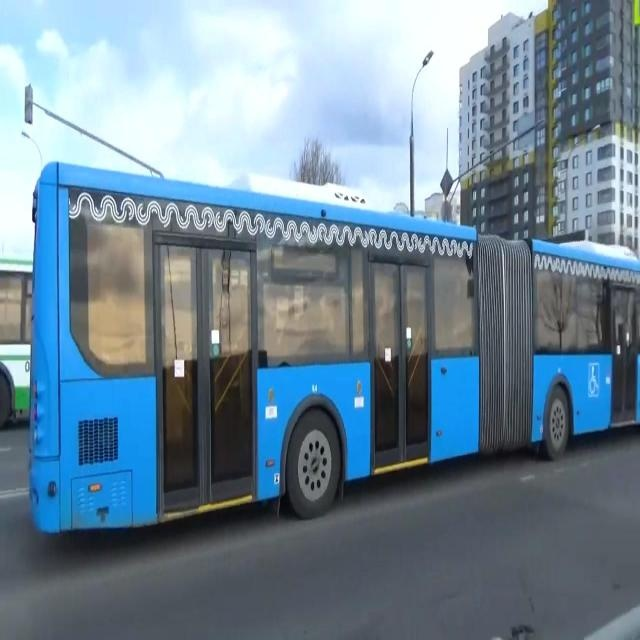Bus: (19, 156, 640, 541)
